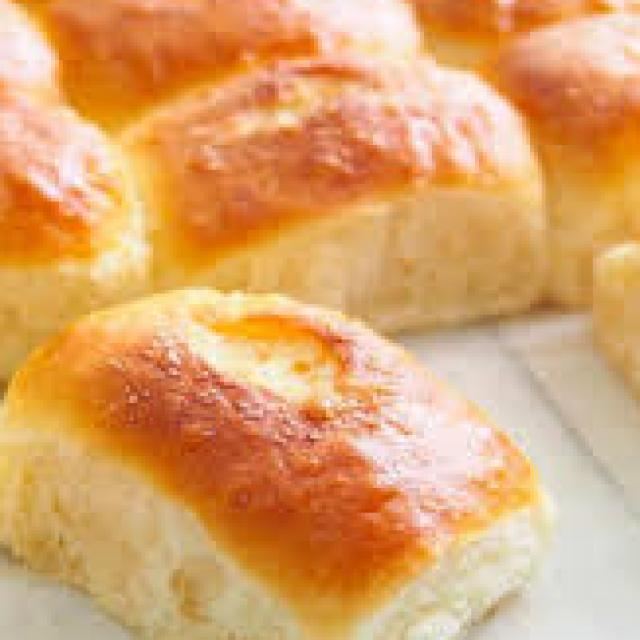inorganic: (0, 12, 608, 624)
